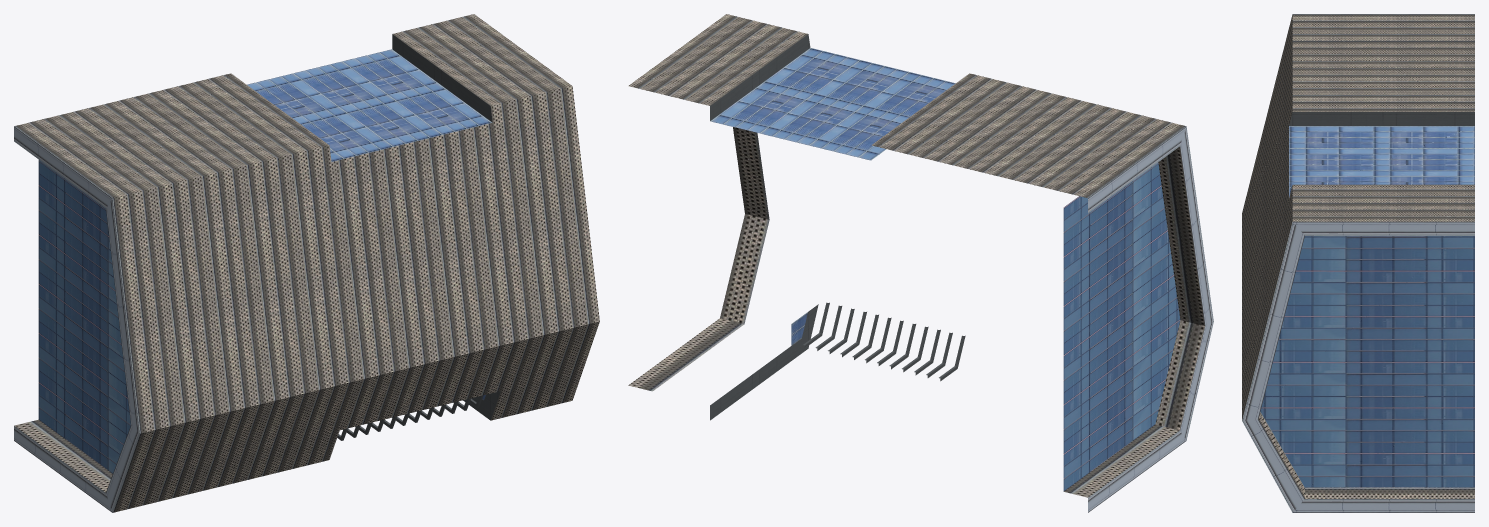
The model's file is sgyh6.gltf.
3 views of the same model, side by side, from view 1: azimuth 30°, elevation 25°; view 2: azimuth 150°, elevation 25°; view 3: azimuth 270°, elevation 25° (orthographic). The views are drawn at different scales.
Parts seen in each view (by area): view 1: Box011; view 2: Box011; view 3: Box011.
Part boxes in pixels (left/top/right/bottom): Box011: left=14, top=14, right=599, bottom=512; Box011: left=628, top=14, right=1213, bottom=512; Box011: left=1242, top=14, right=1474, bottom=512.
Bounding box in the file's own units: 47.38 × 30.97 × 22.44.
5 materials, 5 textured.
